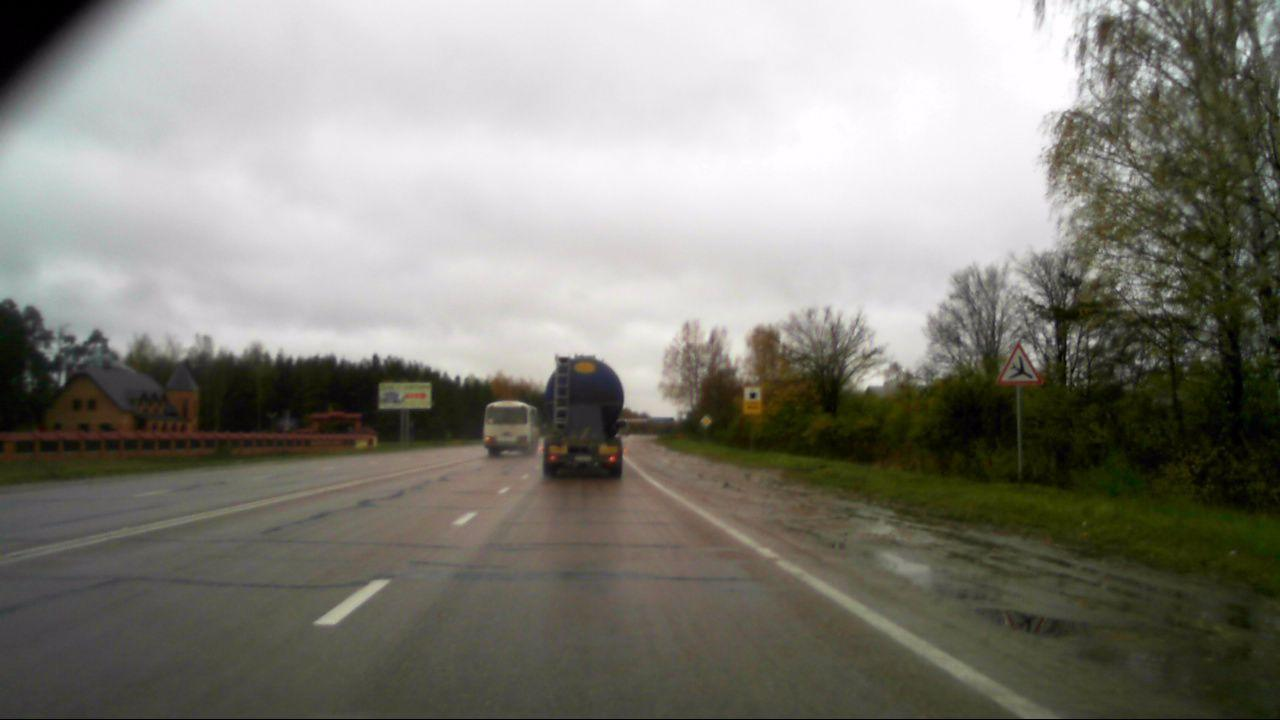1_30: (997, 342, 1042, 386)
